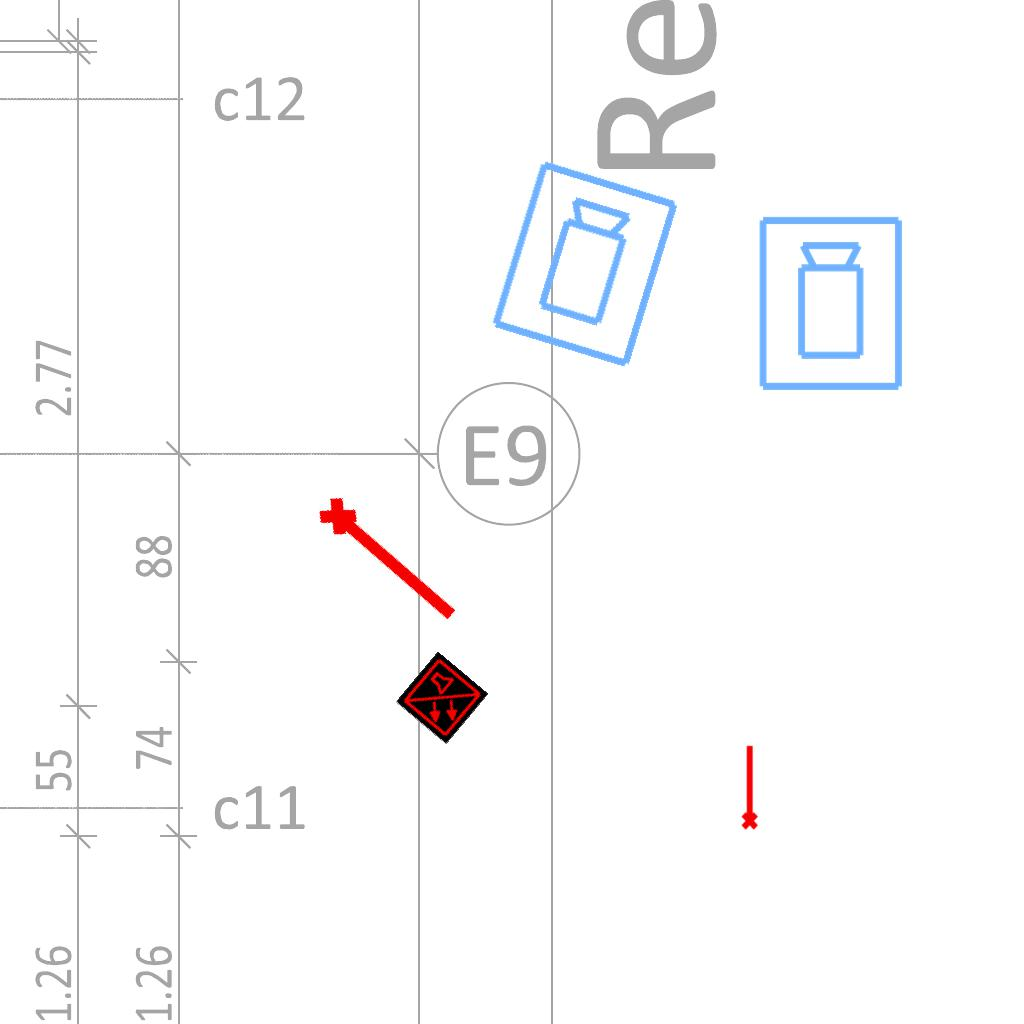ASR_Ansaugoeffnung: (309, 483, 473, 635), (737, 743, 760, 831)
KFO_Kamera_mit_Festobjektiv: (485, 155, 687, 375), (755, 213, 909, 395)
OKW_Multisensormelder_(Kombination_optischer_Rauch-Kahlenmonoxid_Waerme-Melder): (395, 651, 489, 745)
